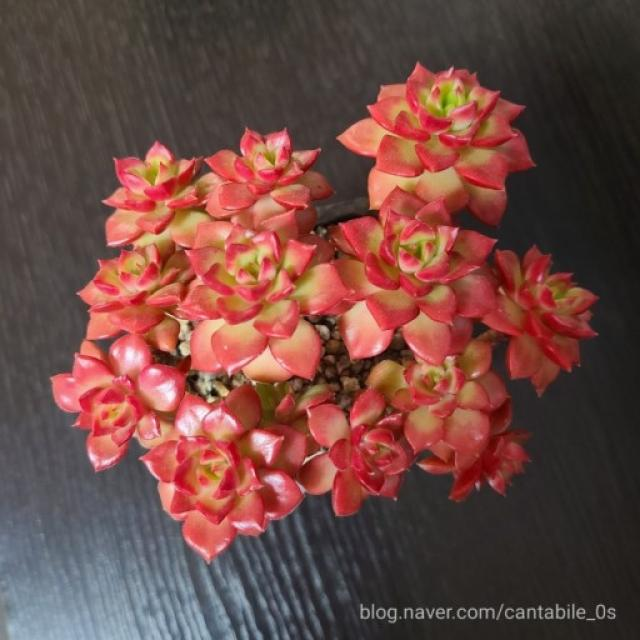Letizia: (339, 64, 532, 223), (179, 210, 348, 381), (142, 385, 305, 561), (332, 189, 495, 364), (51, 334, 185, 471), (484, 246, 598, 393), (300, 388, 414, 516), (79, 244, 192, 352), (104, 141, 209, 253)
